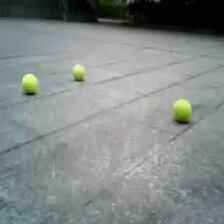tennis: (173, 97, 191, 121), (21, 74, 38, 93), (72, 64, 84, 80)
